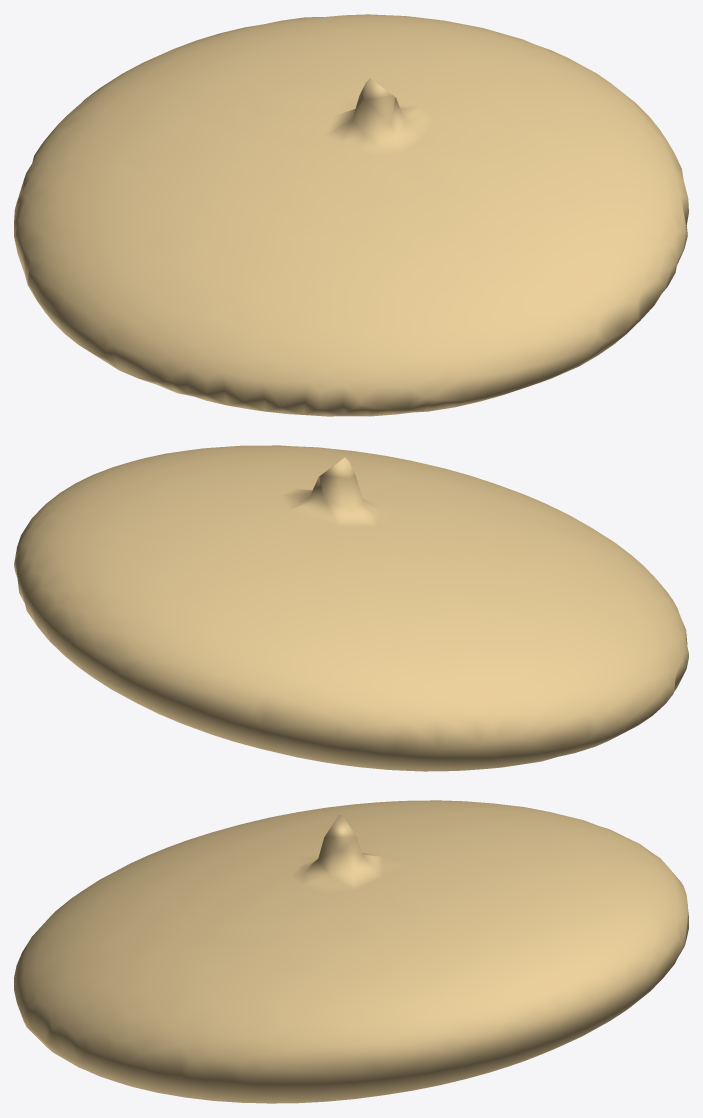
Rendered from acc_beret.glb.
3 views of the same model, one above another, from view 1: azimuth 30°, elevation 25°; view 2: azimuth 150°, elevation 25°; view 3: azimuth 270°, elevation 25° (orthographic).
Visible parts, largest first — view 1: body; view 2: body; view 3: body.
Part boxes in pixels (bbox=[...]): body: bbox=[14, 14, 688, 416]; body: bbox=[14, 445, 688, 771]; body: bbox=[14, 800, 688, 1103].
Size of the model in its own units: 0.5768 by 0.2043 by 0.5732.
